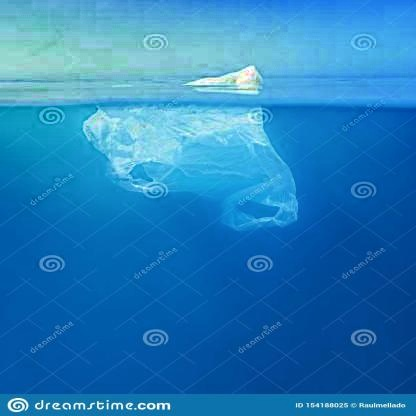pbag: (75, 59, 309, 232)
